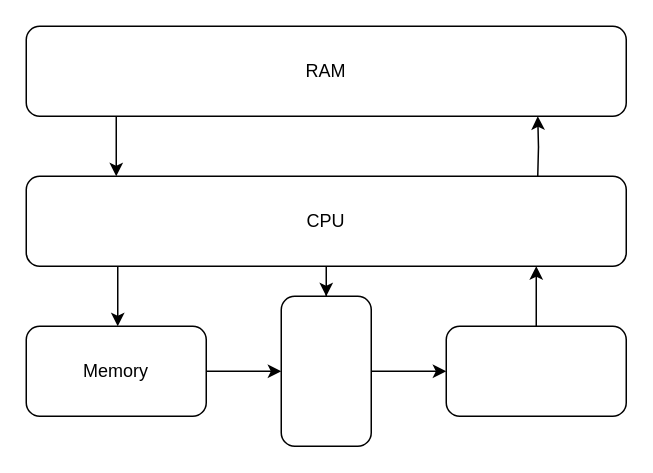
This 653x473 diagram has some shape labels left out. The shapes that lost their labels are listed below. From the top down, each one's centre as x and y in pixels, then its label:
At (x=325, y=370): "Control".
At (x=535, y=370): "Arithmetic".
